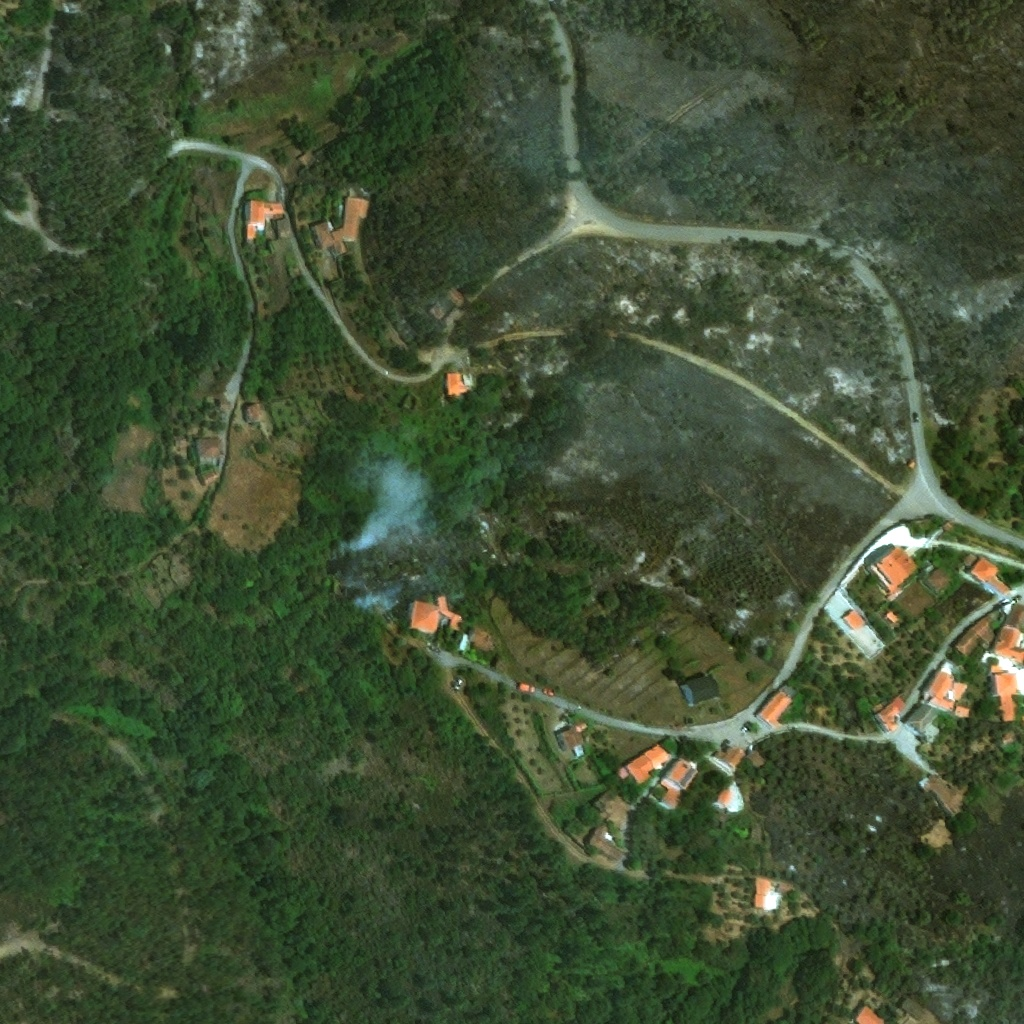0 no-damage: (311, 197, 370, 250), (921, 660, 972, 717), (952, 608, 1005, 658), (867, 543, 919, 593), (406, 595, 463, 634), (918, 774, 969, 817), (754, 683, 799, 728), (617, 744, 667, 784), (967, 555, 1011, 597), (990, 670, 1023, 724), (585, 821, 625, 862), (245, 200, 284, 240), (904, 701, 940, 744), (874, 695, 911, 734), (660, 755, 699, 790), (678, 677, 719, 706), (711, 744, 749, 774), (459, 626, 499, 654), (555, 720, 588, 753), (991, 626, 1023, 656), (925, 567, 953, 594), (195, 440, 223, 465), (898, 998, 926, 1022), (754, 878, 775, 910), (446, 373, 470, 398), (990, 655, 1023, 673), (841, 608, 866, 631), (851, 1005, 882, 1023), (1003, 602, 1023, 629), (591, 791, 613, 814), (713, 788, 738, 808), (662, 788, 684, 809), (244, 403, 263, 425), (748, 825, 765, 845), (200, 470, 220, 486), (275, 219, 290, 238), (884, 608, 899, 624), (942, 521, 952, 532), (907, 462, 914, 469)
